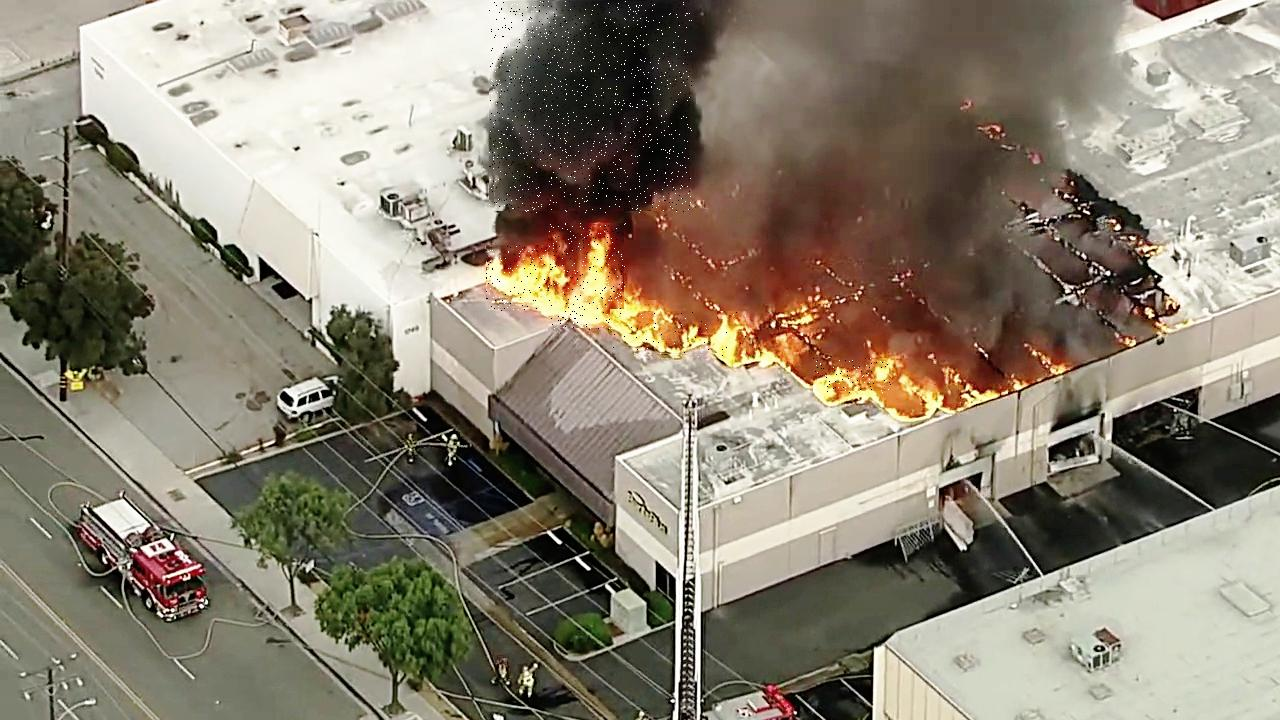fire: (549, 224, 627, 331), (613, 312, 749, 358), (487, 245, 565, 311), (814, 359, 892, 394)
smoke: (490, 2, 693, 214)
